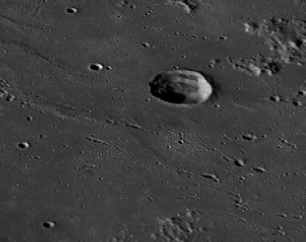crater: (128, 51, 232, 139), (24, 1, 105, 36)
